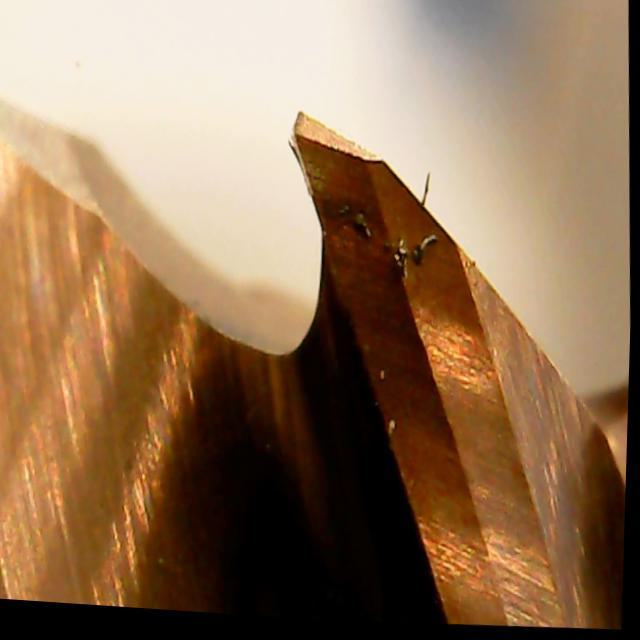Tool-wear-class-1: (263, 110, 485, 426)
